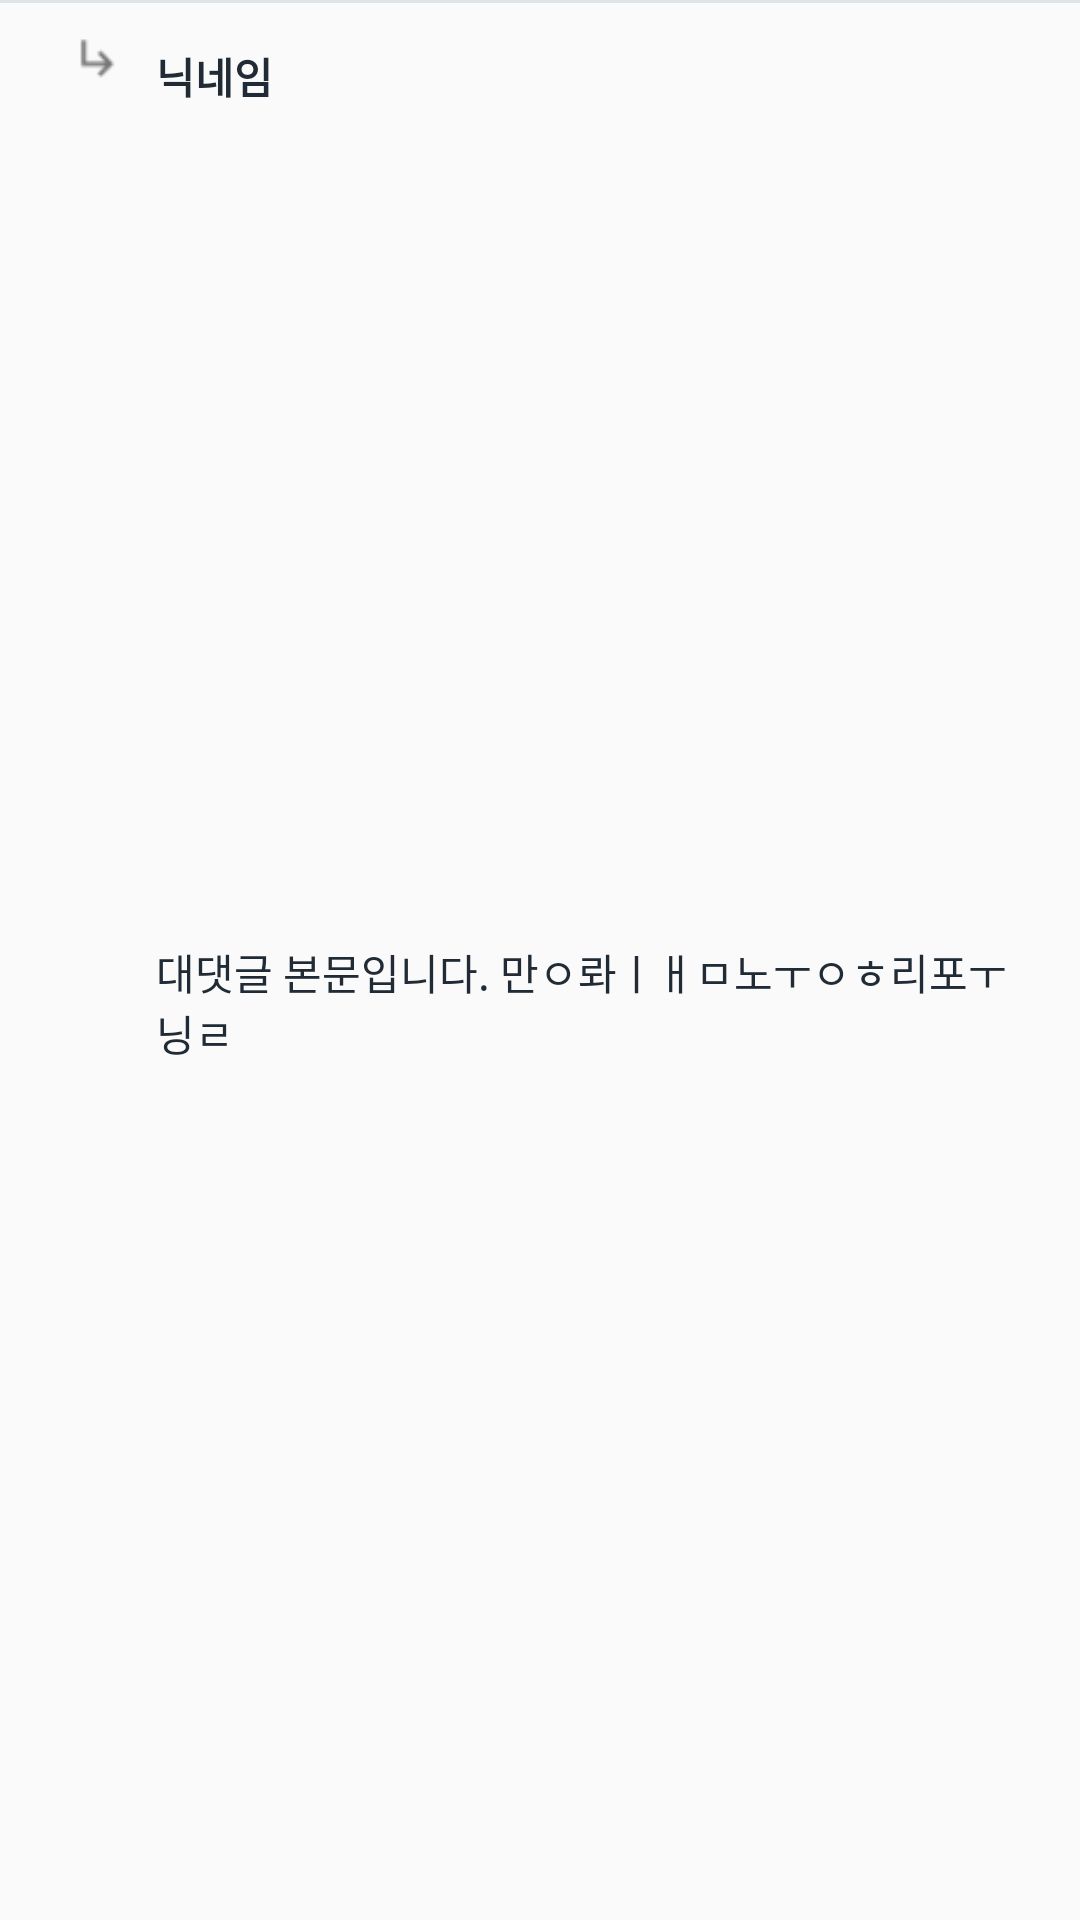

Icon bounding boxes for this 1080×1920 phone screenshot, format (x1, y1, x2, y2):
subdirectory arrow right: (80, 39, 114, 77)
